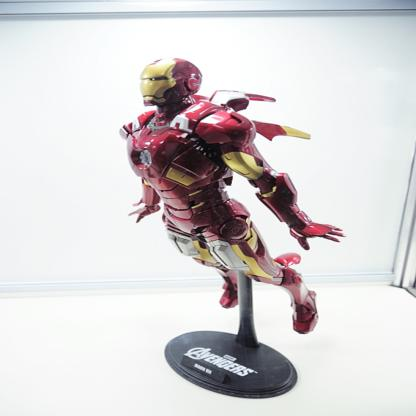Helmet: (136, 73, 198, 105)
